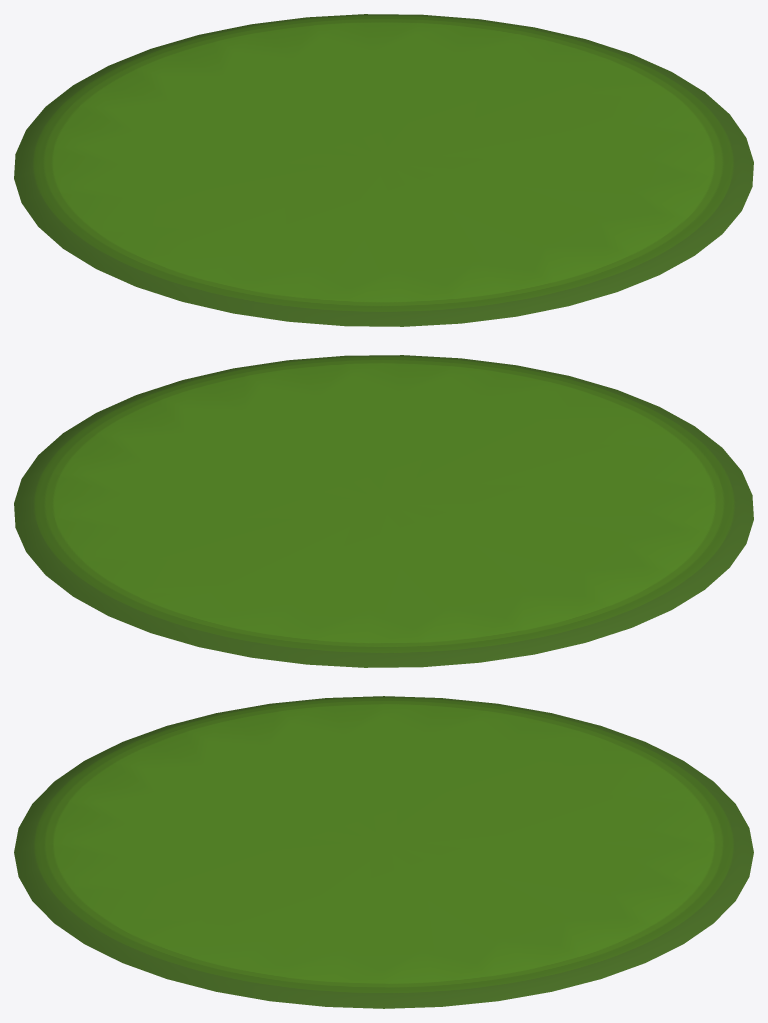
Rendered from Background.FBX.
3 renders of one model, top to bottom at view 1: azimuth 30°, elevation 25°; view 2: azimuth 150°, elevation 25°; view 3: azimuth 270°, elevation 25°, orthographic.
Visible parts, largest first — view 1: Background; view 2: Background; view 3: Background.
Boxes of the visible parts, x1,y1,x2,y2 form: Background: (14, 14, 753, 326); Background: (14, 355, 753, 667); Background: (14, 696, 753, 1008).
Bounding box in the file's own units: 6611 × 92.76 × 6611.
